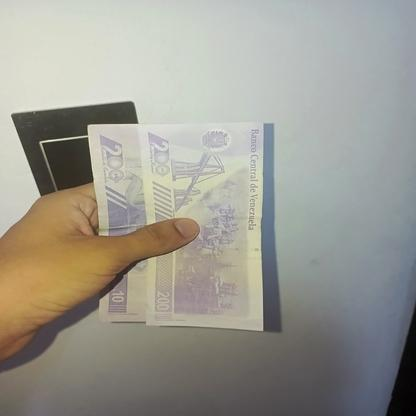two_hundred-back-vef: (136, 121, 264, 332)
